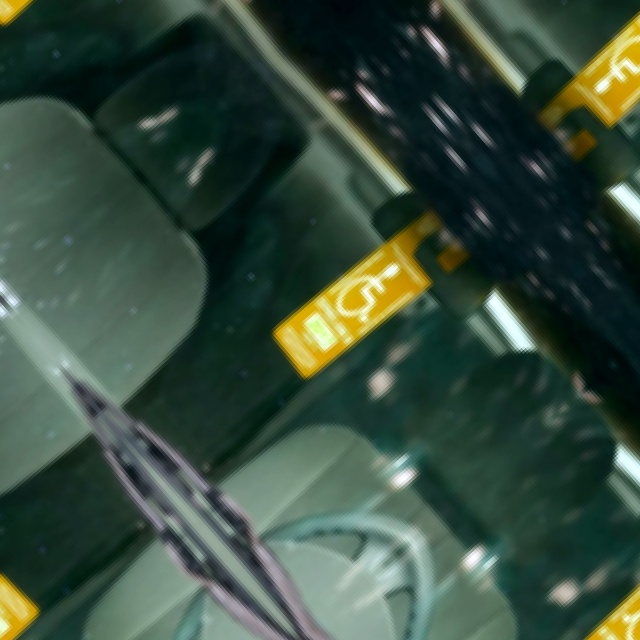ISA: (330, 246, 418, 331), (579, 28, 640, 113), (613, 570, 640, 640)
